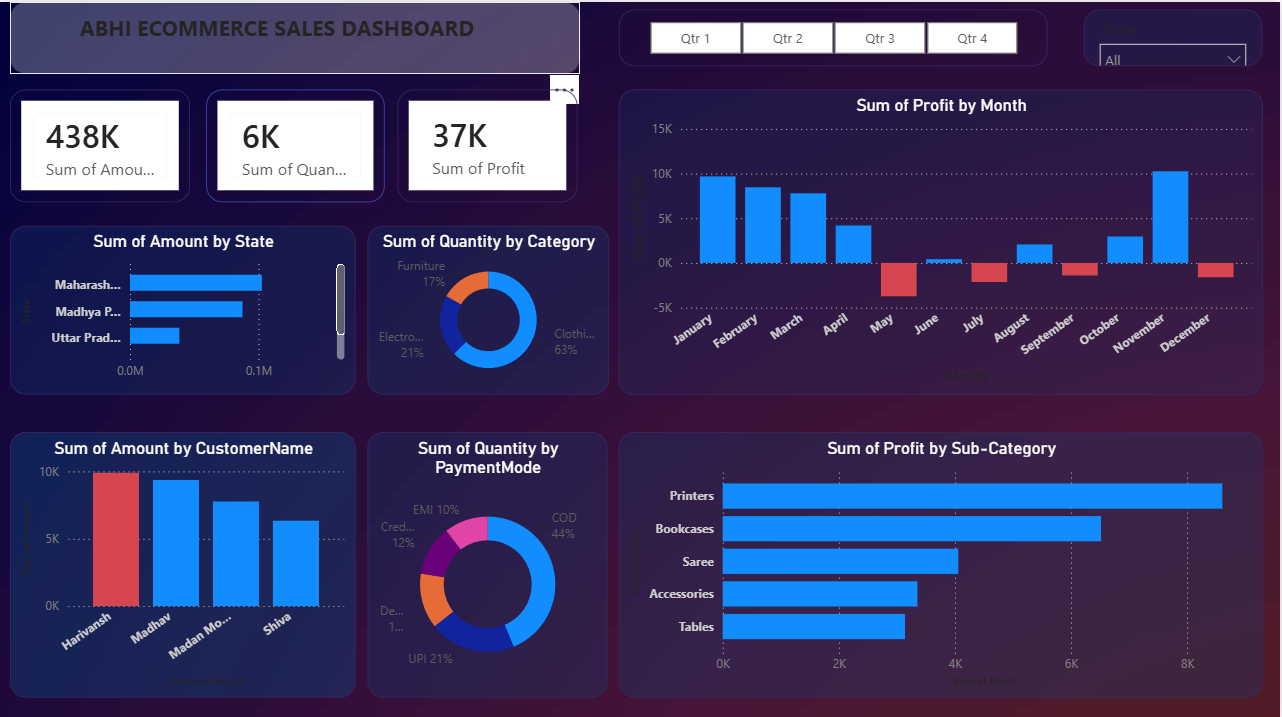

This screenshot's page, from the dashboard's own definition file:
{"tool":"powerbi","page":{"name":"Page 1","canvas":[1280,720],"ordinal":0},"visuals":[{"type":"textbox","box":[10,0,570,72],"z":0},{"type":"columnChart","fields":{"Category":["Orders.Order Date.Variation.Date Hierarchy.Month"],"Y":["Sum(Details.Profit)"]},"box":[618.6,87.1,644.3,305.7],"z":1000},{"type":"barChart","fields":{"Category":["Details.Sub-Category"],"Y":["Sum(Details.Profit)"]},"box":[618.6,430,644.3,265.7],"z":2000},{"type":"donutChart","fields":{"Category":["Details.Category"],"Y":["Sum(Details.Quantity)"]},"box":[367.1,224.3,241.4,168.6],"z":3000},{"type":"donutChart","fields":{"Category":["Details.PaymentMode","Details.Category"],"Y":["Sum(Details.Quantity)"]},"box":[367.1,430,240,265.7],"z":4000},{"type":"cardVisual","fields":{"Data":["Sum(Details.Amount)"]},"box":[10,87.1,180,112.9],"z":4001},{"type":"cardVisual","fields":{"Data":["Sum(Details.Quantity)"]},"box":[205.7,87.1,178.6,112.9],"z":4002},{"type":"cardVisual","fields":{"Data":["Sum(Details.Profit)"]},"box":[397.1,87.1,180,112.9],"z":4003},{"type":"barChart","fields":{"Category":["Orders.State"],"Y":["Sum(Details.Amount)"]},"box":[10,224.3,345.7,168.6],"z":4004},{"type":"clusteredColumnChart","fields":{"Category":["Orders.CustomerName"],"Y":["Sum(Details.Amount)"]},"box":[10,430,345.7,265.7],"z":4005},{"type":"slicer","fields":{"Values":["Orders.Order Date.Variation.Date Hierarchy.Quarter"]},"box":[618.6,7.1,428.6,57.1],"z":4006},{"type":"slicer","fields":{"Values":["Orders.State"]},"box":[1084.3,7.1,178.6,57.1],"z":4007}]}

Visuals, with their boxes in screenshot pixels (x1, y1, x2, y2), scaled from the page's 1280x720 canvas onto the 1282x717 screenshot:
textbox: [x1=10, y1=0, x2=581, y2=72]
columnChart - Orders.Order Date.Variation.Date Hierarchy.Month x Sum(Details.Profit): [x1=620, y1=87, x2=1265, y2=391]
barChart - Details.Sub-Category x Sum(Details.Profit): [x1=620, y1=428, x2=1265, y2=693]
donutChart - Details.Category x Sum(Details.Quantity): [x1=368, y1=223, x2=609, y2=391]
donutChart - Details.PaymentMode x Details.Category: [x1=368, y1=428, x2=608, y2=693]
cardVisual - Sum(Details.Amount): [x1=10, y1=87, x2=190, y2=199]
cardVisual - Sum(Details.Quantity): [x1=206, y1=87, x2=385, y2=199]
cardVisual - Sum(Details.Profit): [x1=398, y1=87, x2=578, y2=199]
barChart - Orders.State x Sum(Details.Amount): [x1=10, y1=223, x2=356, y2=391]
clusteredColumnChart - Orders.CustomerName x Sum(Details.Amount): [x1=10, y1=428, x2=356, y2=693]
slicer - Orders.Order Date.Variation.Date Hierarchy.Quarter: [x1=620, y1=7, x2=1049, y2=64]
slicer - Orders.State: [x1=1086, y1=7, x2=1265, y2=64]
